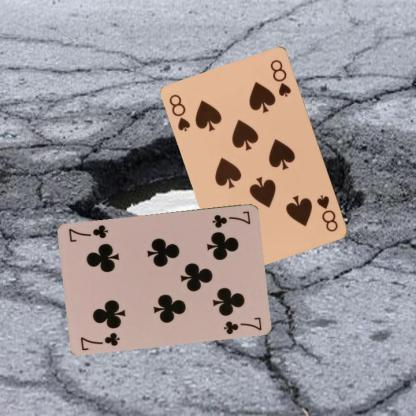7c: (78, 329, 121, 352), (210, 208, 252, 229)
8s: (314, 192, 340, 233), (167, 92, 192, 133)
